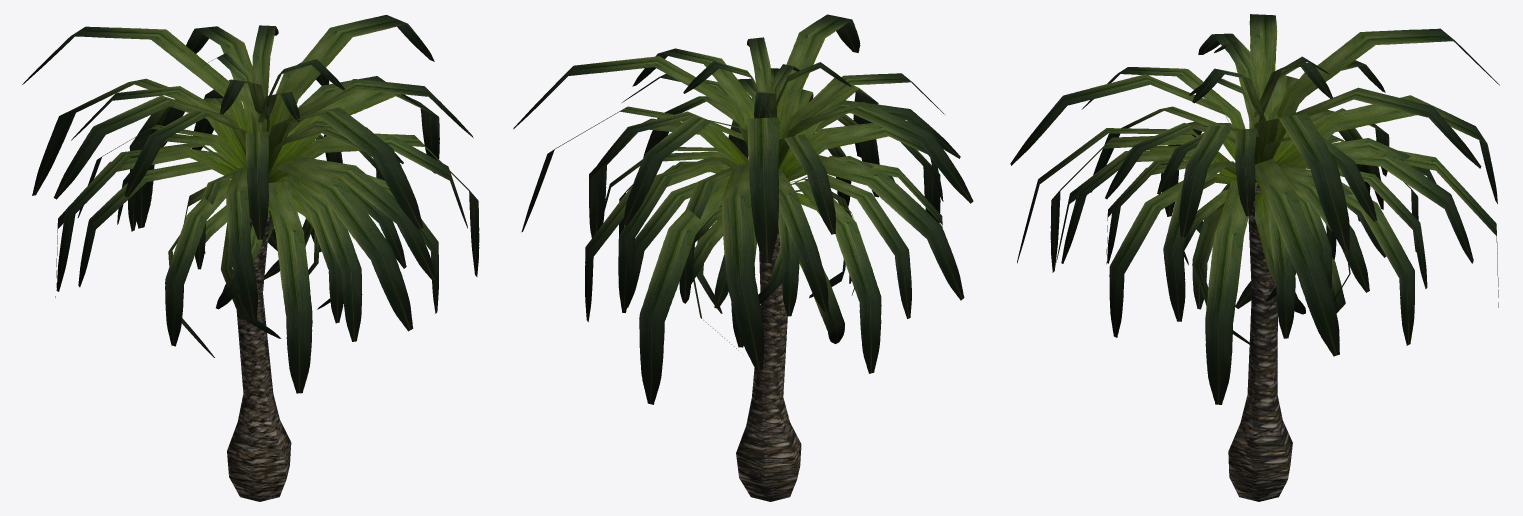
The model's file is palm.obj.
The picture shows the model from 3 angles, left to right: view 1: azimuth 30°, elevation 25°; view 2: azimuth 150°, elevation 25°; view 3: azimuth 270°, elevation 25°; orthographic projection.
Visible parts, largest first — view 1: Palm; view 2: Palm; view 3: Palm.
Part boxes in pixels (bbox=[...]): Palm: bbox=[22, 15, 479, 501]; Palm: bbox=[513, 14, 973, 501]; Palm: bbox=[1010, 14, 1499, 501].
Bounding box in the file's own units: 59.96 × 59.52 × 60.93.
1 material, 1 textured.
